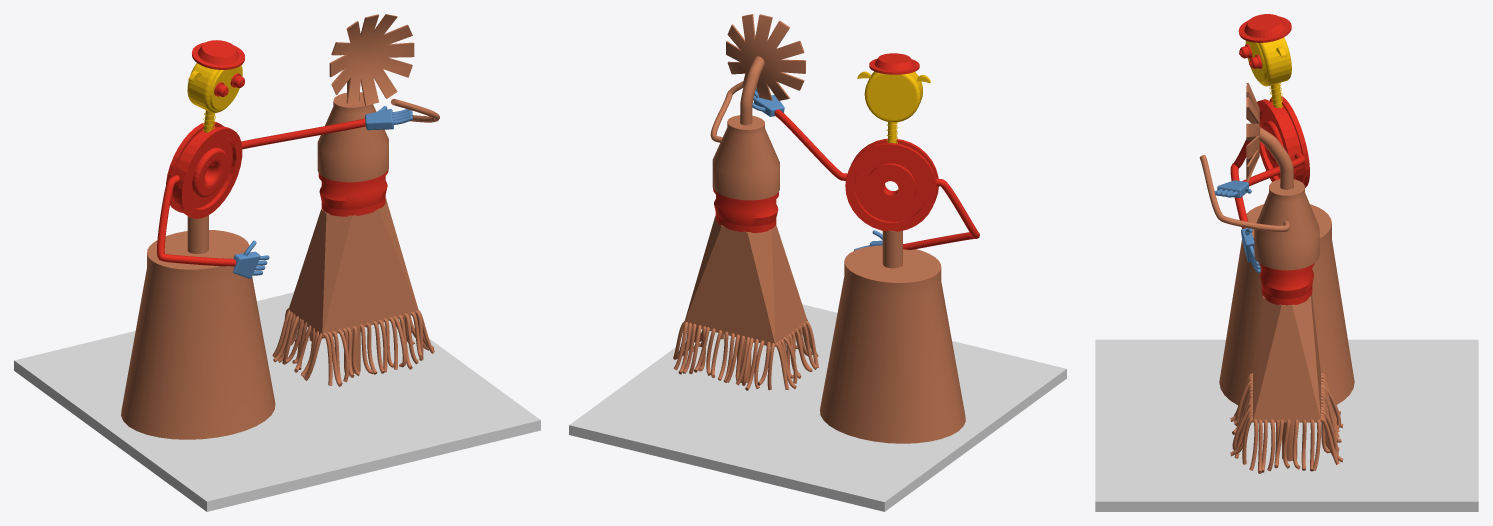
File: Seodo_Statue3.fbx
3 renders of one model, left to right at view 1: azimuth 30°, elevation 25°; view 2: azimuth 150°, elevation 25°; view 3: azimuth 270°, elevation 25°, orthographic. The views are drawn at different scales.
Visible parts, largest first — view 1: SM_Statue3_Support, SM_Statue3_R_Body, SM_Statue3_L_Leg, SM_Statue3_L_Body, SM_Statue3_R_Waist, SM_Statue3_L_Head, SM_Statue3_L_Hands; view 2: SM_Statue3_Support, SM_Statue3_R_Body, SM_Statue3_L_Leg, SM_Statue3_L_Body, SM_Statue3_L_Head, SM_Statue3_R_Waist, SM_Statue3_L_Hands; view 3: SM_Statue3_Support, SM_Statue3_R_Body, SM_Statue3_L_Leg, SM_Statue3_L_Body, SM_Statue3_R_Waist, SM_Statue3_L_Head, SM_Statue3_L_Hands.
Part boxes in pixels (<box>): SM_Statue3_Support: <box>14,292,540,511</box>; SM_Statue3_R_Body: <box>272,14,439,386</box>; SM_Statue3_L_Leg: <box>121,215,275,439</box>; SM_Statue3_L_Body: <box>157,40,365,266</box>; SM_Statue3_R_Waist: <box>318,169,388,216</box>; SM_Statue3_L_Head: <box>187,63,242,132</box>; SM_Statue3_L_Hands: <box>233,106,412,278</box>; SM_Statue3_Support: <box>569,304,1066,511</box>; SM_Statue3_R_Body: <box>673,14,818,390</box>; SM_Statue3_L_Leg: <box>820,230,965,443</box>; SM_Statue3_L_Body: <box>774,53,979,249</box>; SM_Statue3_L_Head: <box>857,71,930,143</box>; SM_Statue3_R_Waist: <box>713,188,778,232</box>; SM_Statue3_L_Hands: <box>752,87,882,250</box>; SM_Statue3_Support: <box>1095,339,1478,511</box>; SM_Statue3_R_Body: <box>1199,83,1343,473</box>; SM_Statue3_L_Leg: <box>1219,204,1354,405</box>; SM_Statue3_L_Body: <box>1230,14,1309,228</box>; SM_Statue3_R_Waist: <box>1259,263,1314,305</box>; SM_Statue3_L_Head: <box>1245,37,1291,108</box>; SM_Statue3_L_Hands: <box>1214,180,1260,273</box>.
Bounding box in the file's own units: 479 × 521 × 479.
